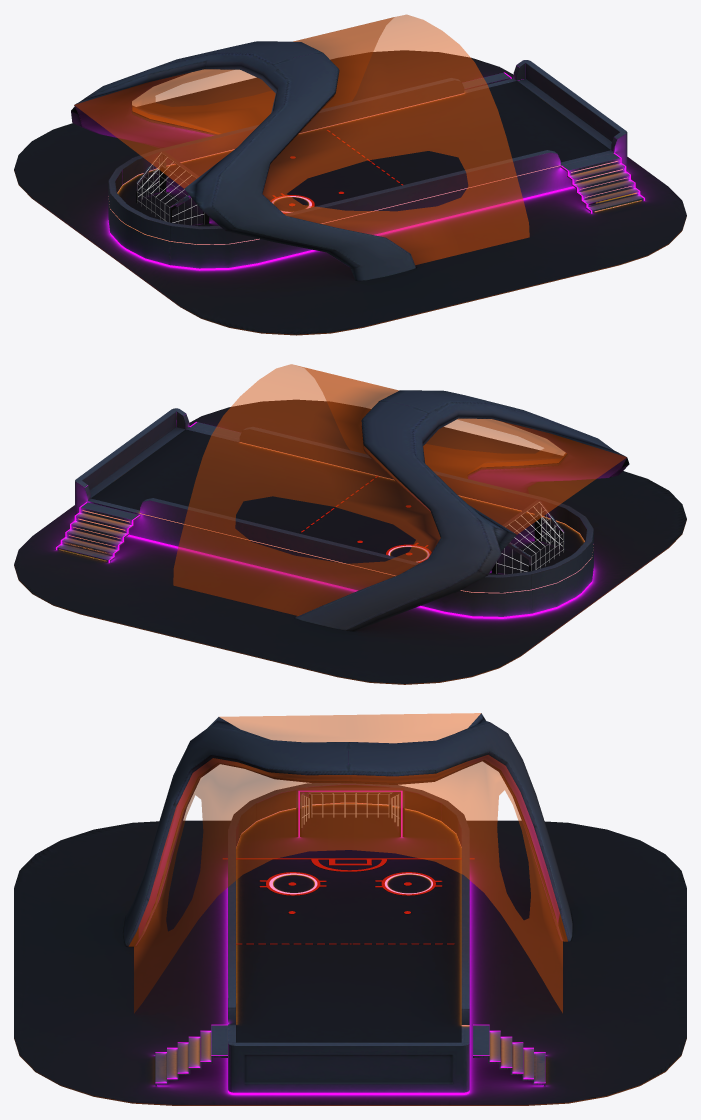
File: Test_Game_V1.glb
The picture shows the model from 3 angles, top to bottom: view 1: azimuth 30°, elevation 25°; view 2: azimuth 150°, elevation 25°; view 3: azimuth 270°, elevation 25°; orthographic projection. The views are drawn at different scales.
Visible parts, largest first — view 1: Cube.002, Plane, Cube, Cube.003, Cube.001; view 2: Cube.002, Plane, Cube, Cube.003, Cube.001; view 3: Plane, Cube, Cube.002, Curve.007, Cube.001, Cube.003.
Part boxes in pixels (bbox=[...]): Cube.002: bbox=[71, 14, 529, 280]; Plane: bbox=[14, 50, 686, 335]; Cube: bbox=[108, 60, 644, 270]; Cube.003: bbox=[137, 152, 204, 225]; Cube.001: bbox=[136, 151, 209, 224]; Cube.002: bbox=[173, 364, 629, 631]; Plane: bbox=[14, 399, 686, 684]; Cube: bbox=[56, 408, 593, 618]; Cube.003: bbox=[496, 502, 563, 574]; Cube.001: bbox=[491, 500, 564, 573]; Plane: bbox=[14, 820, 686, 1105]; Cube: bbox=[155, 783, 545, 1094]; Cube.002: bbox=[123, 713, 572, 1013]; Curve.007: bbox=[223, 858, 474, 944]; Cube.001: bbox=[296, 787, 404, 836]; Cube.003: bbox=[301, 792, 398, 827].
Size of what is drawn, in the model's own units: 63.7 by 19.31 by 63.7.
Materials: 8 (4 with a texture image).
